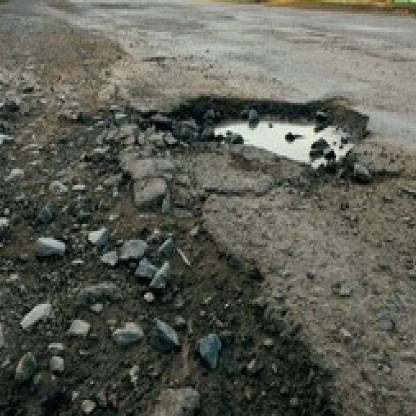pothole: (179, 92, 372, 169)
